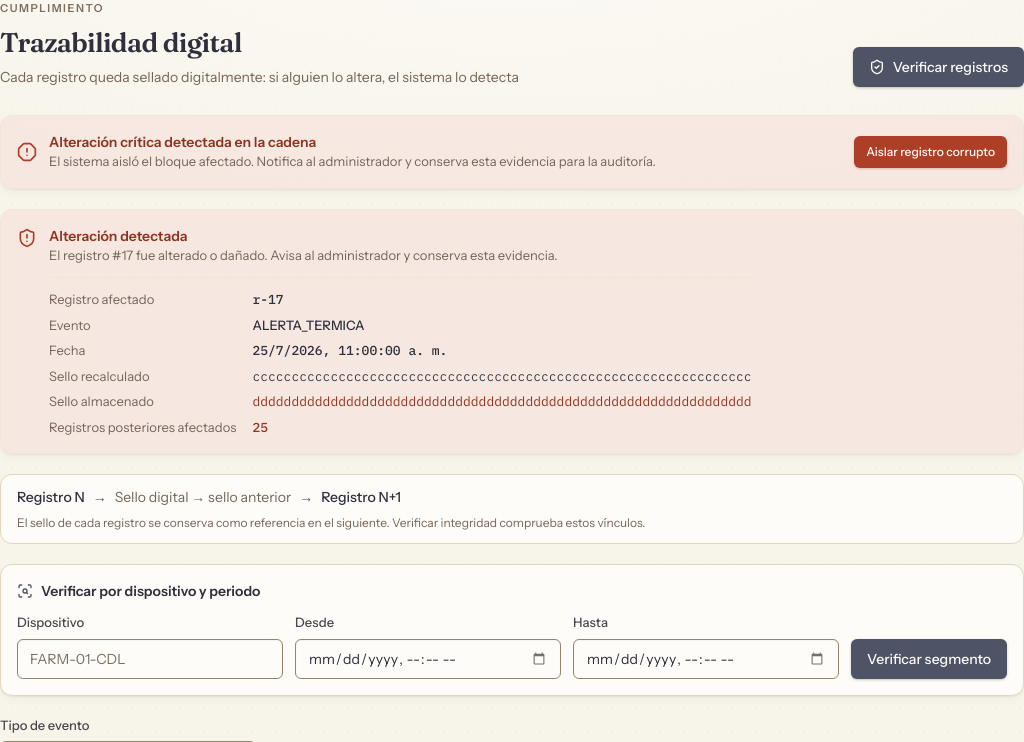
Scenario: Trazabilidad — cadena de custodia (RF-14, RF-15, HU-47) › pide confirmación antes de aislar un registro
Click the button "Aislar registro corrupto" at (931, 152), box [854, 136, 1007, 168]
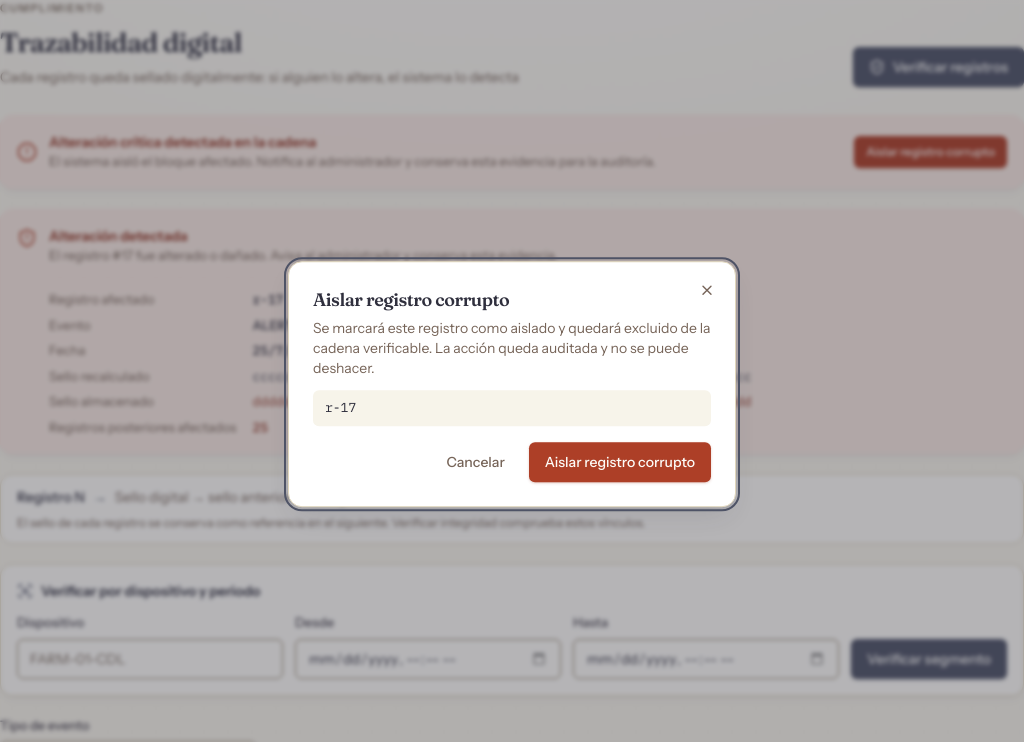
expect the dialog is shown: met, box [288, 261, 736, 507]
